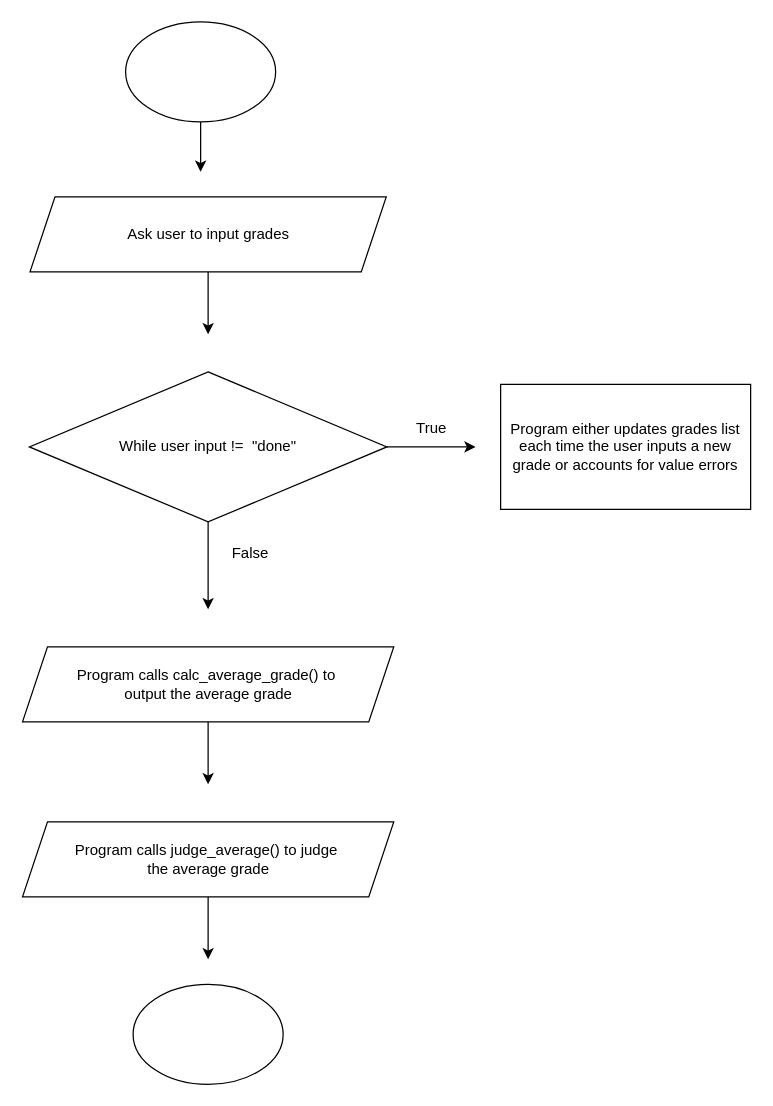
Image size: 773x1106. Some labels were removed from this diagram. The centre of each missing label's shape, as x and y in pixels:
"End" goes at point (207, 1033).
"Start" goes at point (200, 71).
